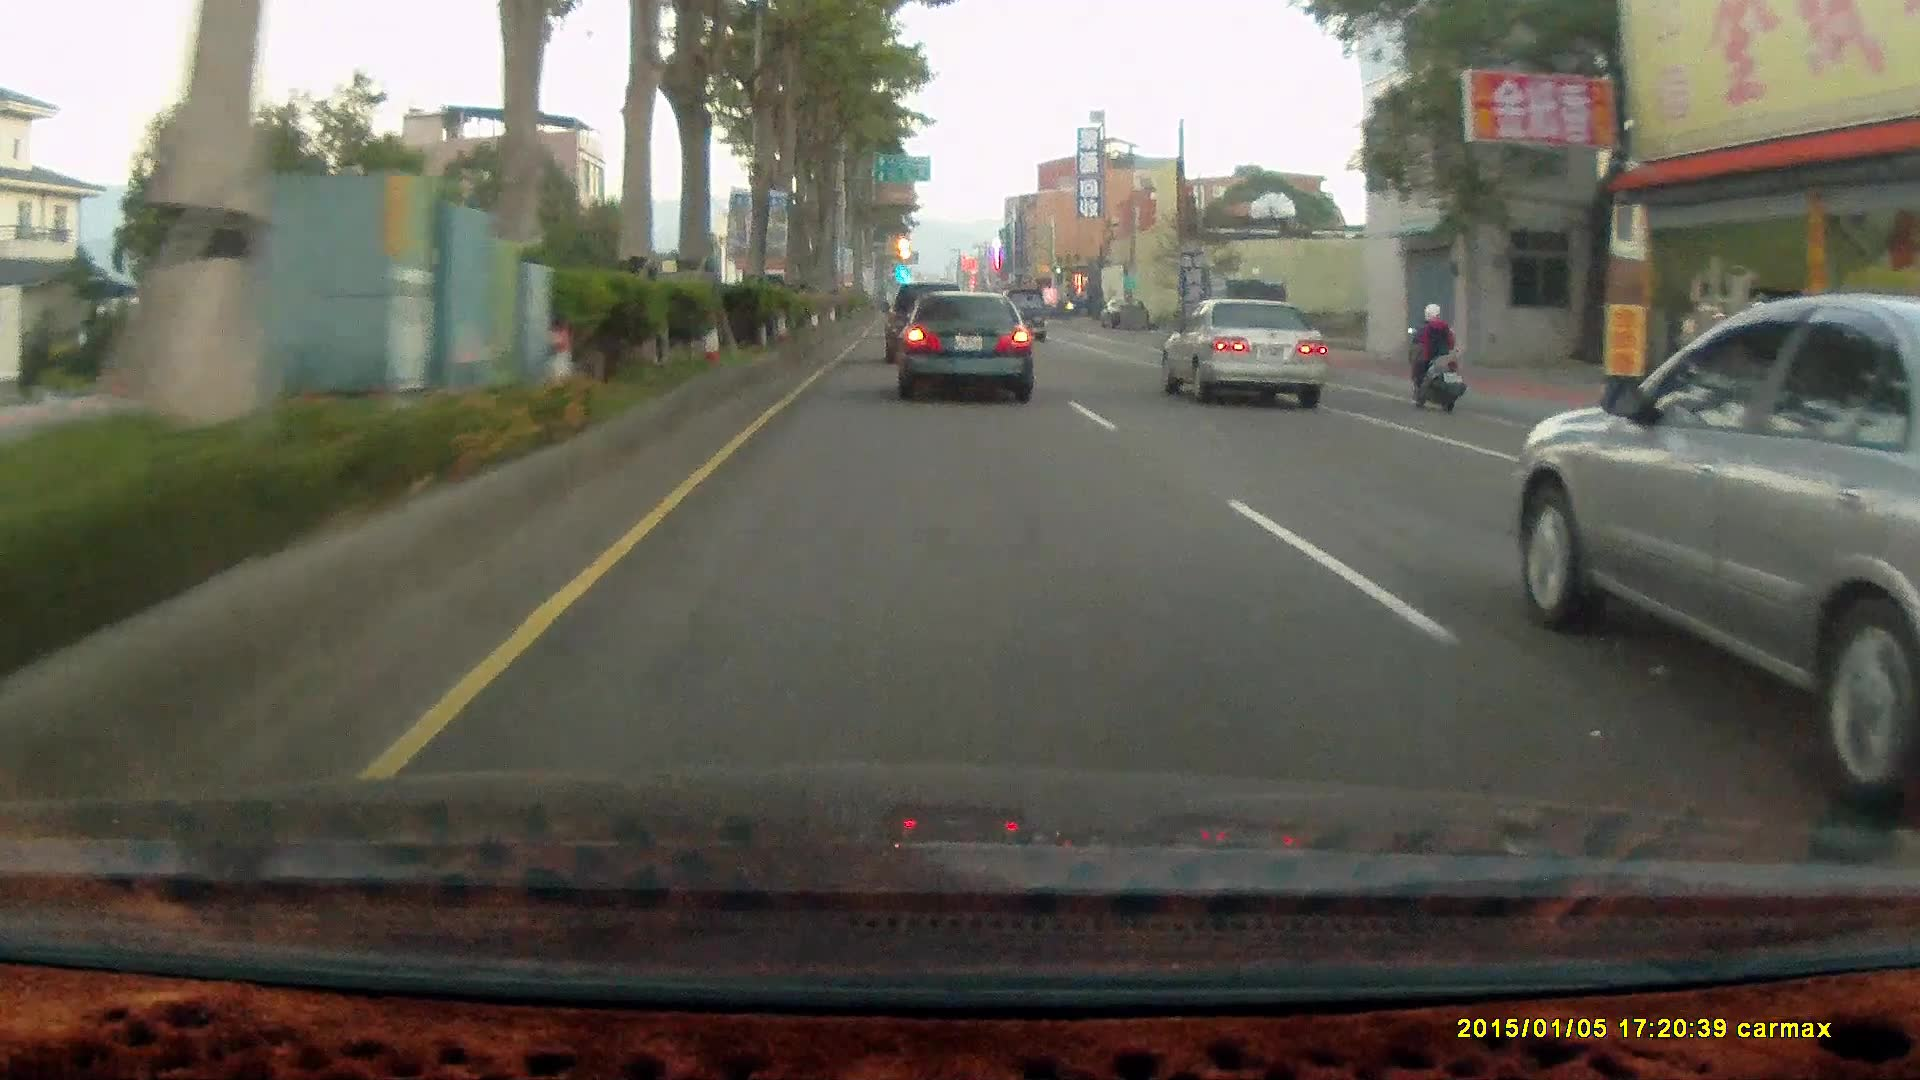rider: (1396, 293, 1475, 420), (1402, 289, 1467, 404)
vehicle: (1509, 290, 1920, 824), (1159, 296, 1329, 411), (1168, 298, 1327, 401), (895, 290, 1035, 402), (897, 289, 1036, 399), (885, 281, 973, 364), (883, 278, 965, 358), (1203, 279, 1287, 356), (999, 288, 1046, 343)
